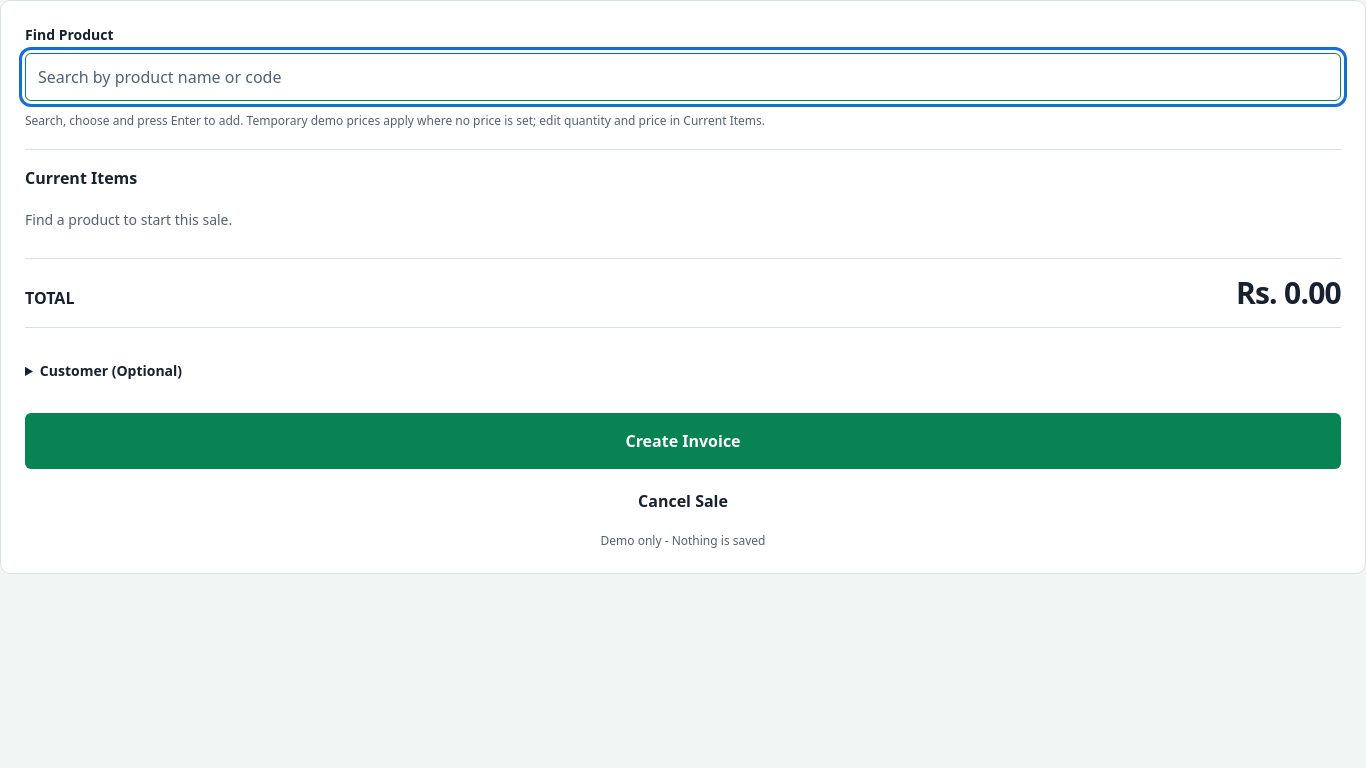
Scenario: validates receipt display details and never provides editable totals or identity
Type "dia" into the dropdown labelled "Find Product" at [683, 77], box [25, 53, 1341, 101]
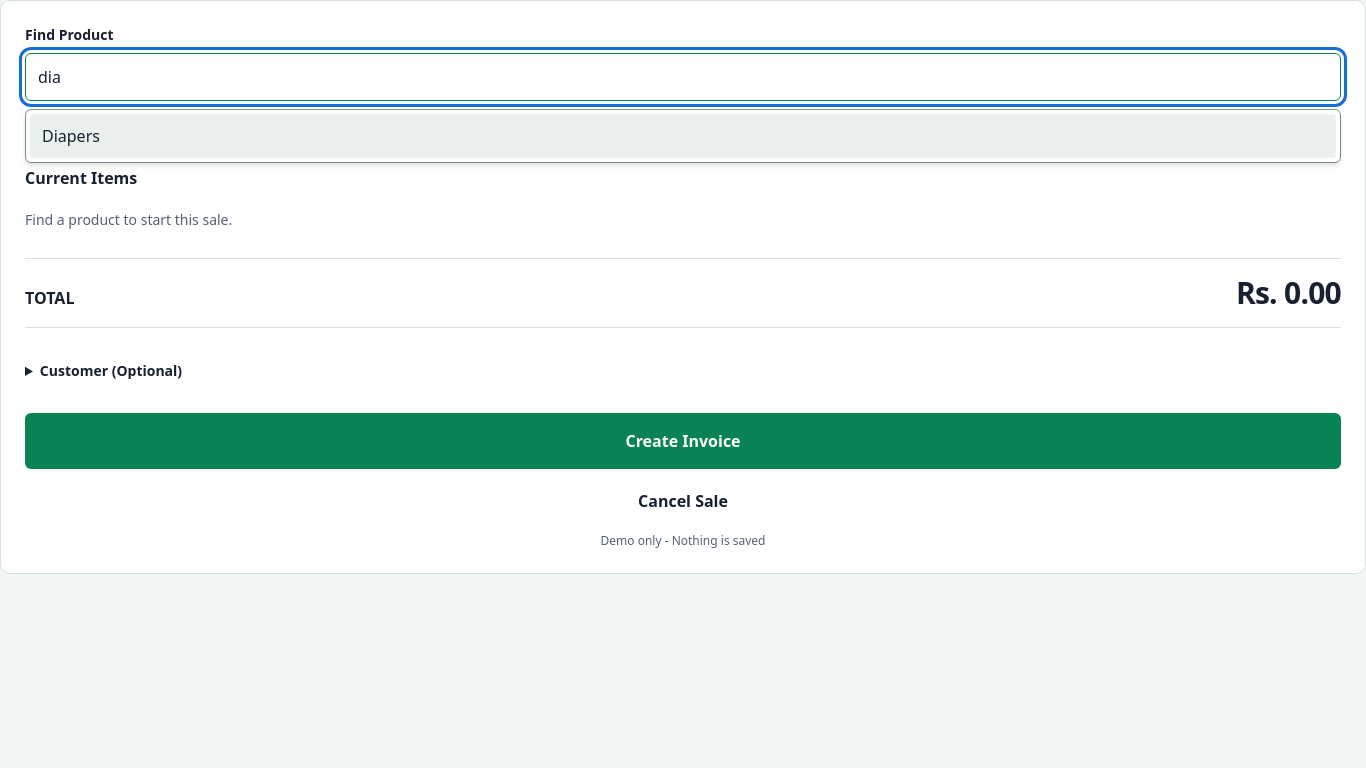
Press Enter in the dropdown labelled "Find Product", box [25, 53, 1341, 101]
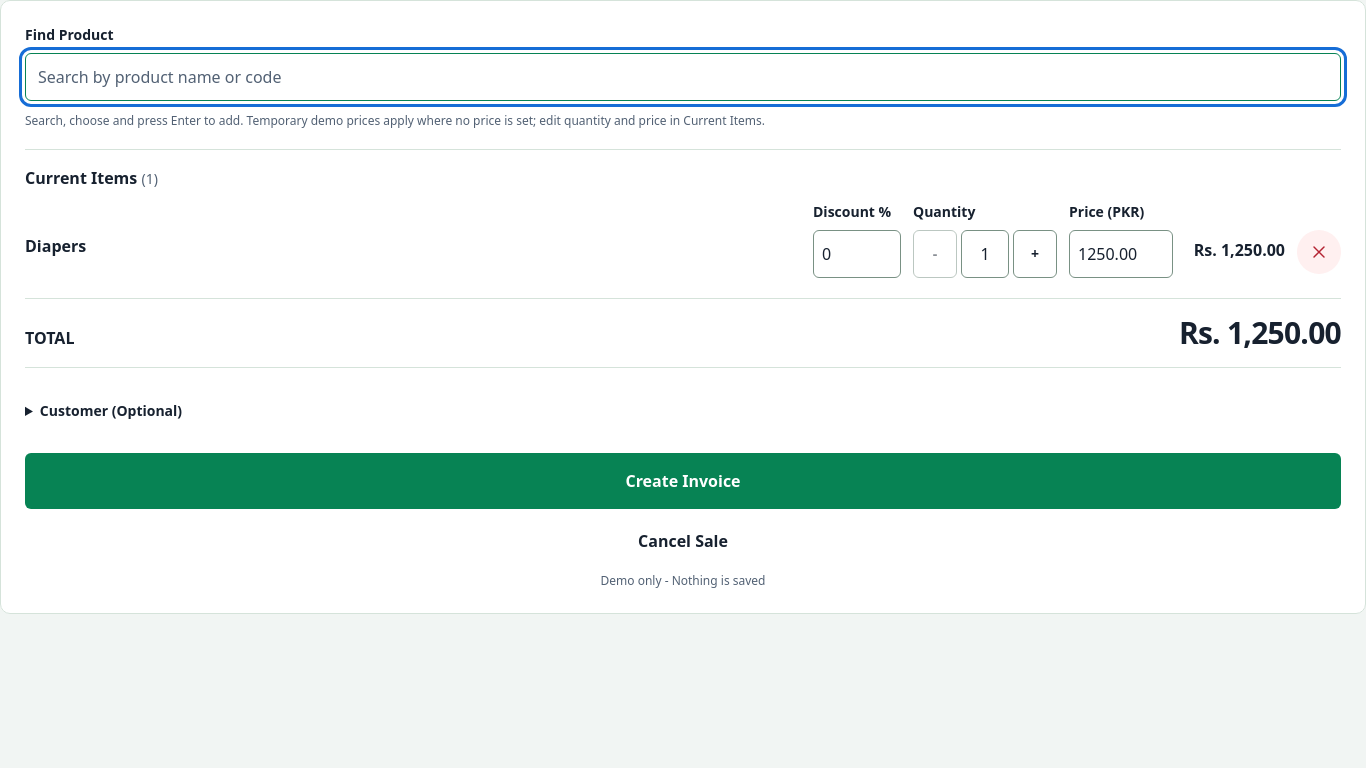
Replace the text in the field named "Diapers quantity, item 1" with "2" at [985, 254], box [961, 230, 1009, 278]
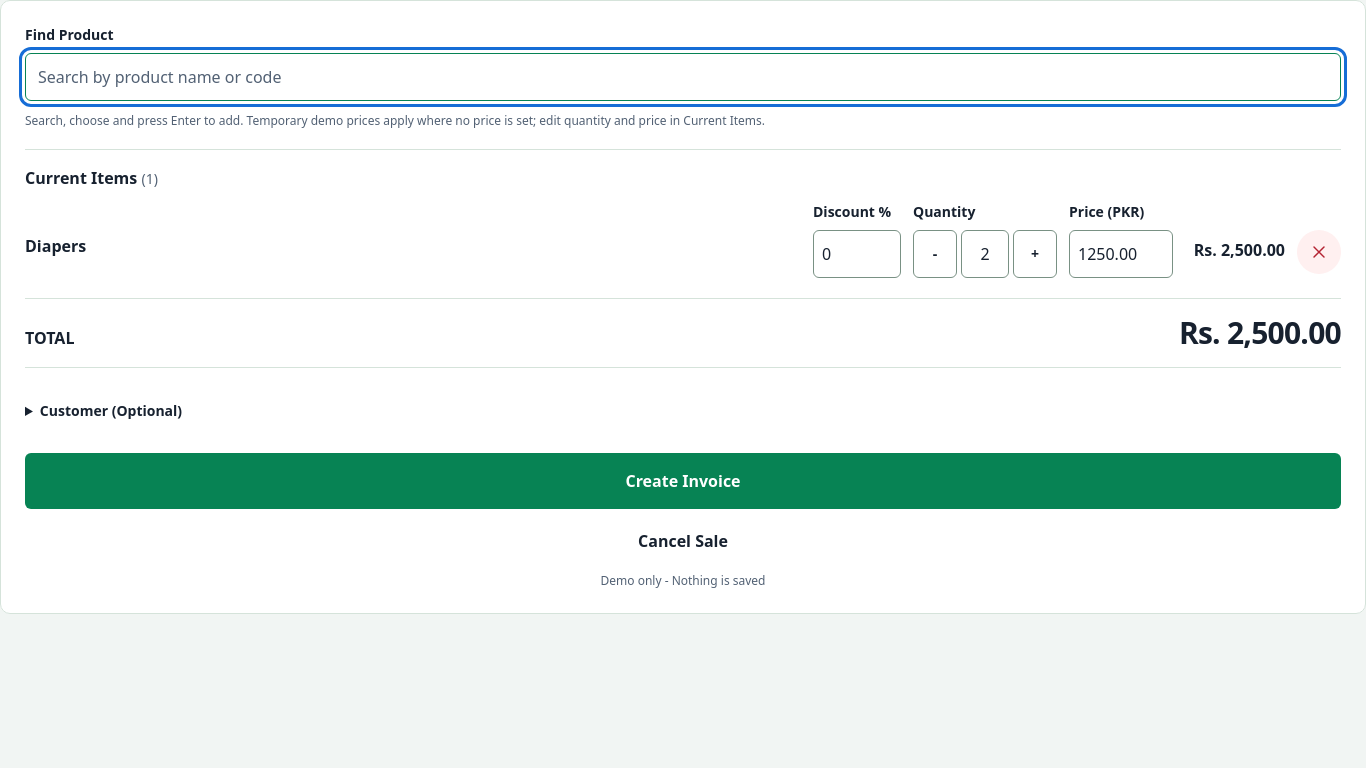
Replace the text in the field named "Diapers price (PKR), item 1" with "1250.25" at [1121, 254], box [1069, 230, 1173, 278]
Clear the field named "Diapers discount (%), item 1" at [857, 254], box [813, 230, 901, 278]
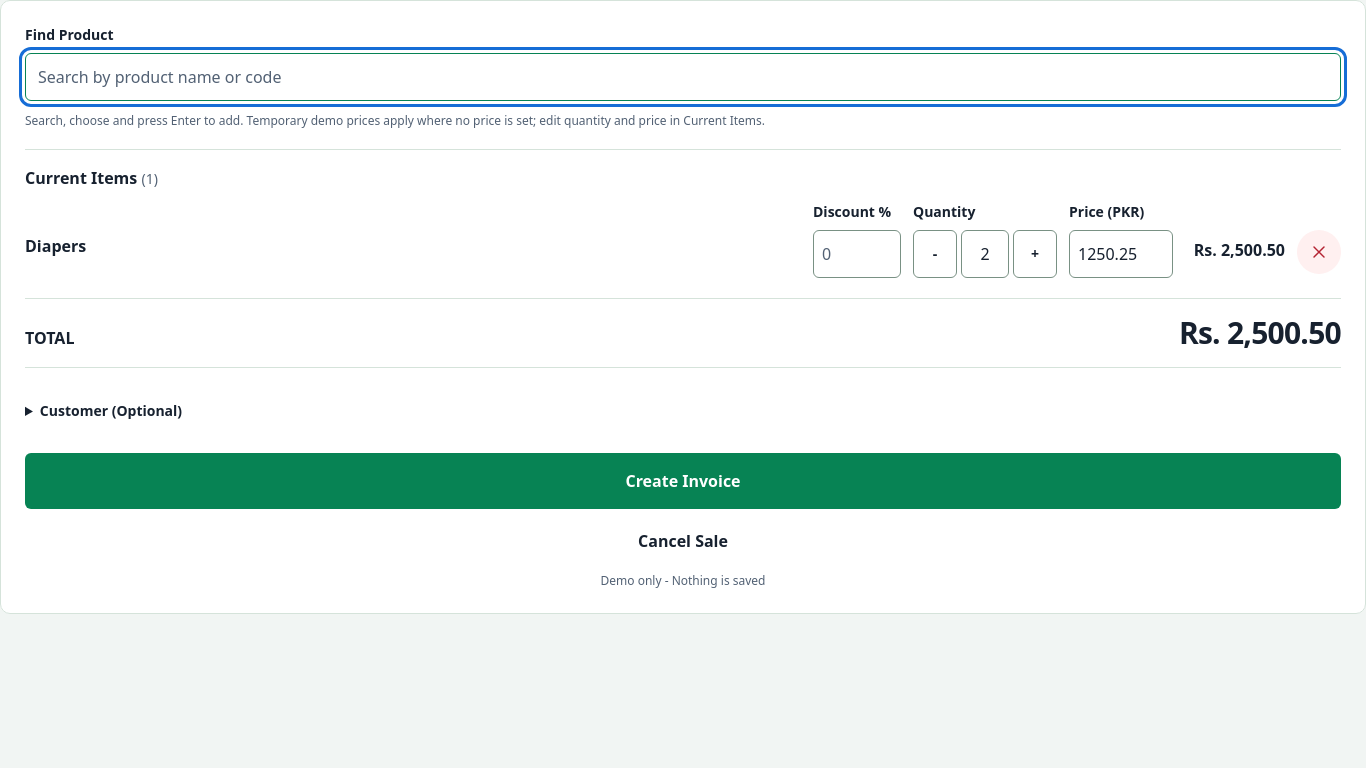
Click the button "Create Invoice" at [683, 481], box [25, 453, 1341, 509]
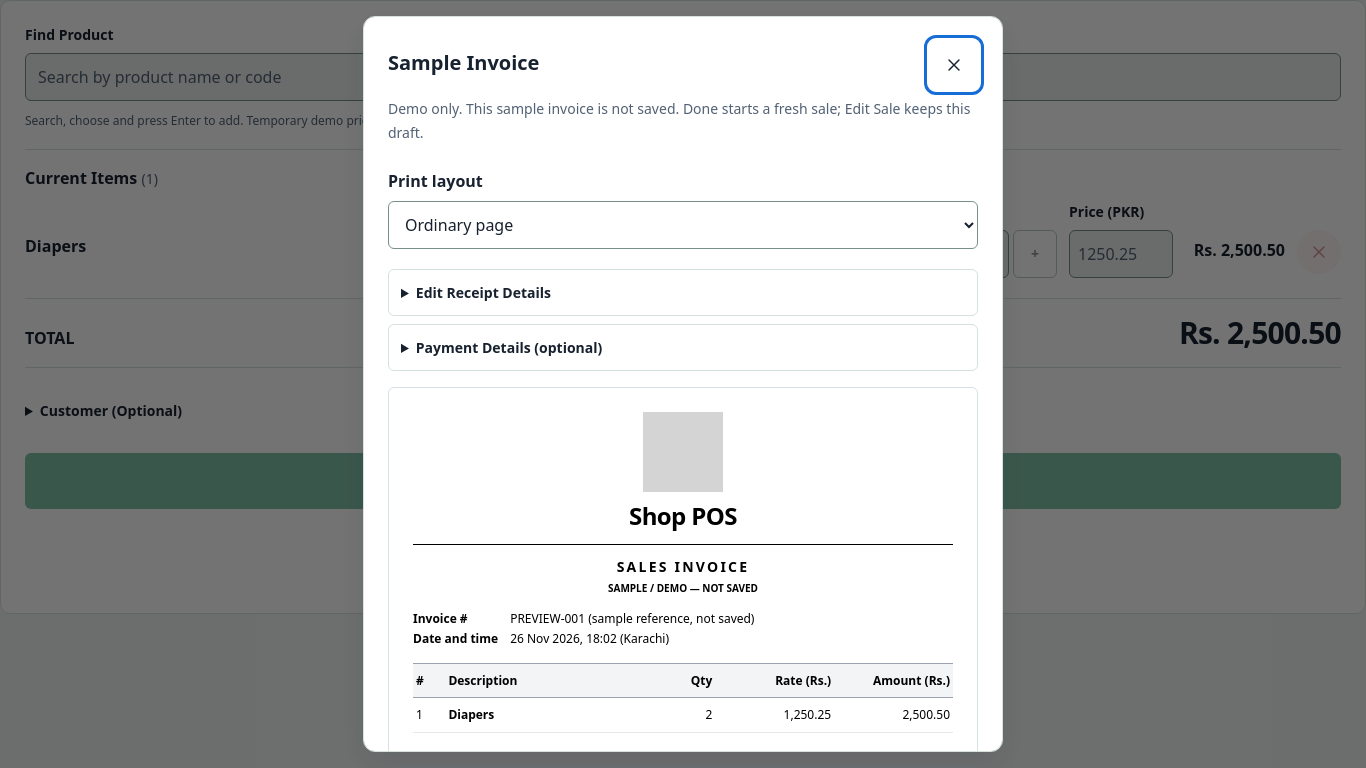
Clear the field named "Receipt Shop Name" at [683, 292], box [388, 269, 978, 316]
(page scrolled)
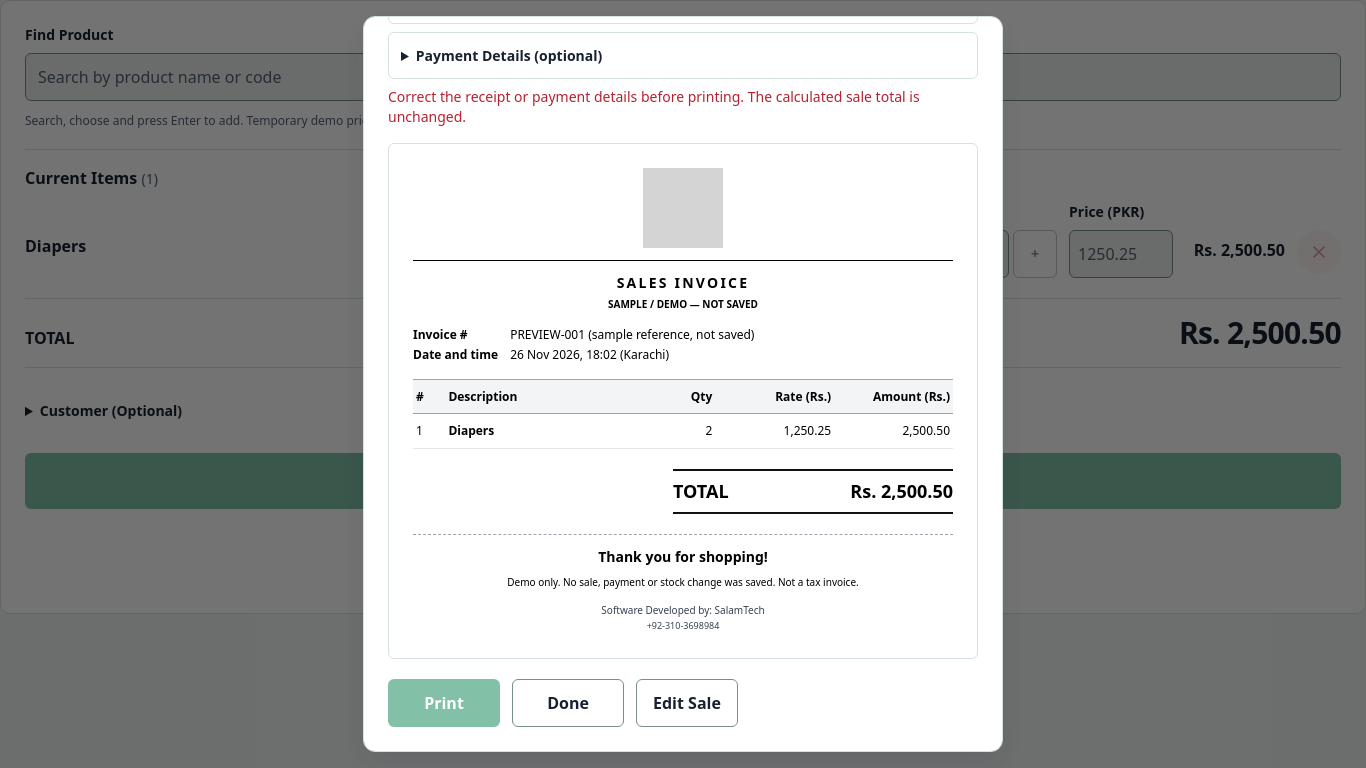
Now the element with class "receipt-sheet" shows "PREVIEW-001", box [510, 326, 585, 343]
Now the button "Print" is disabled, box [388, 678, 500, 726]
